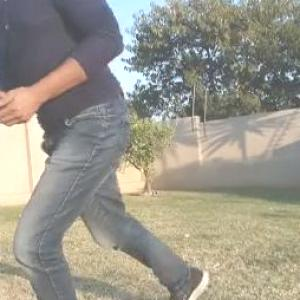follow: (1, 0, 214, 299)
